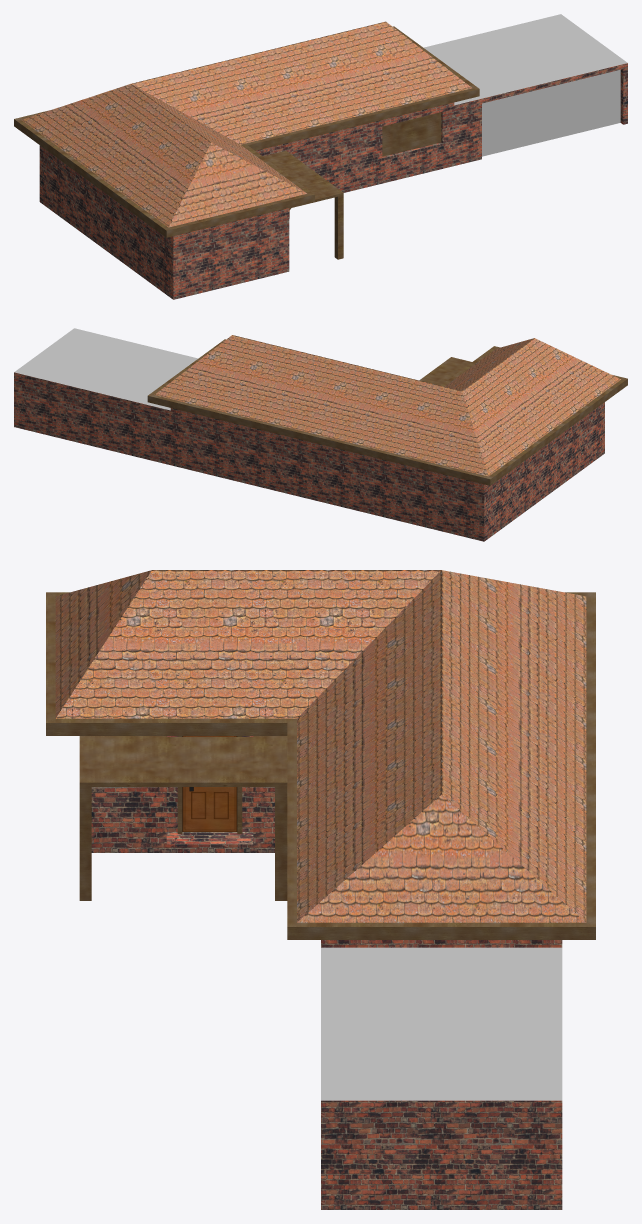
The model's file is house_001.fbx.
3 renders of one model, top to bottom at view 1: azimuth 30°, elevation 25°; view 2: azimuth 150°, elevation 25°; view 3: azimuth 270°, elevation 25°, orthographic. The views are drawn at different scales.
Parts seen in each view (by area): view 1: house1; view 2: house1; view 3: house1.
Part boxes in pixels (<box>): house1: <box>14,14,627,299</box>; house1: <box>14,328,627,541</box>; house1: <box>46,570,595,1209</box>.
Bounding box in the file's own units: 2320 × 530 × 1140.
